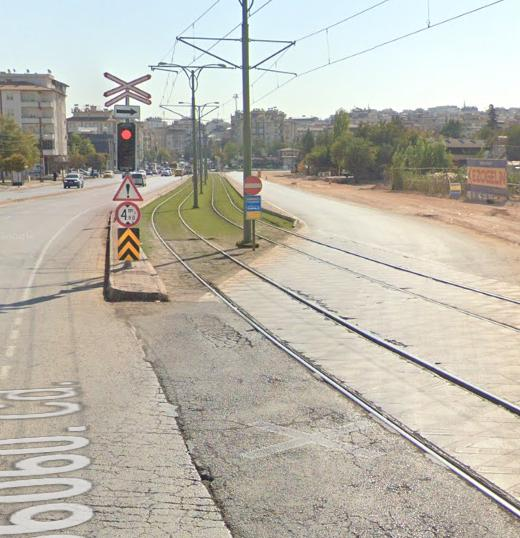redlight: (117, 122, 138, 172)
